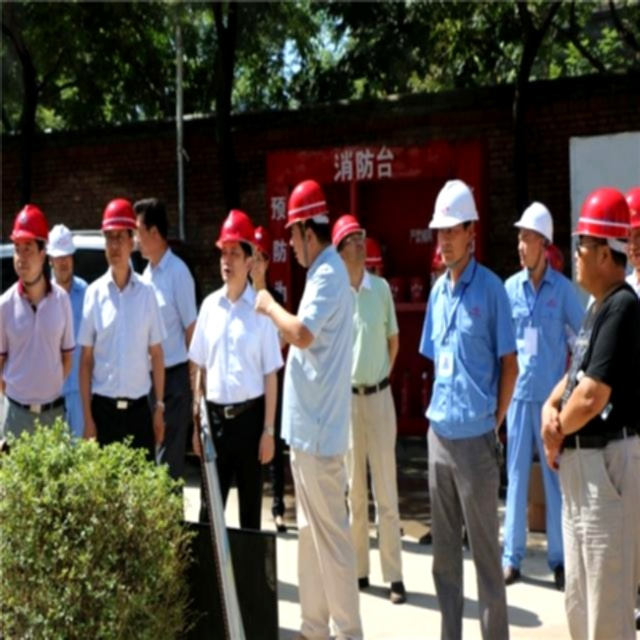Con_Casco: (428, 179, 479, 268)
Sin_Casco_Mascarrilla: (134, 197, 169, 263)
